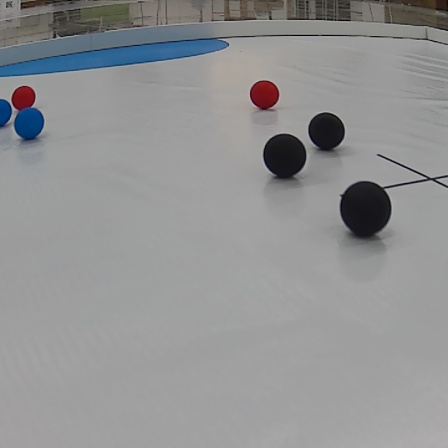black: (338, 177, 394, 234), (262, 134, 313, 181), (310, 113, 349, 151)
blue: (12, 108, 50, 137), (0, 98, 21, 125)
blue_base: (0, 37, 236, 74)
red: (246, 76, 285, 111), (8, 86, 39, 109)
